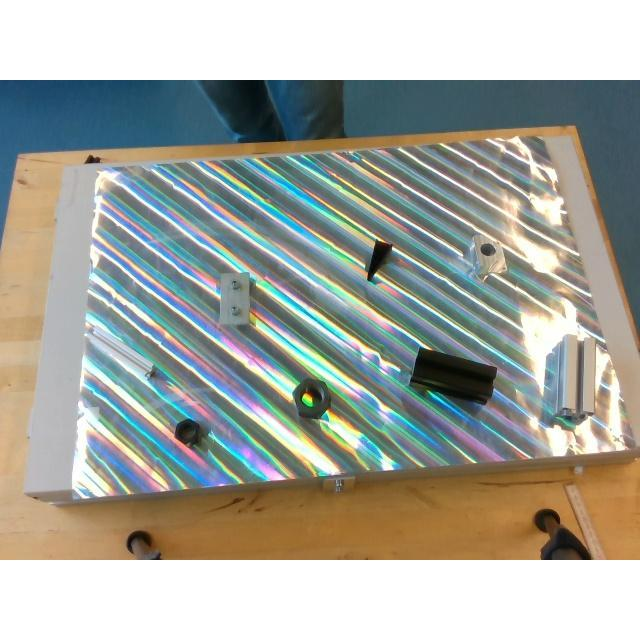F20_20_G: (84, 324, 156, 381)
M20: (174, 418, 202, 444)
M30: (292, 378, 330, 416)
S40_40_B: (408, 348, 496, 402)
S40_40_G: (544, 334, 596, 422)
